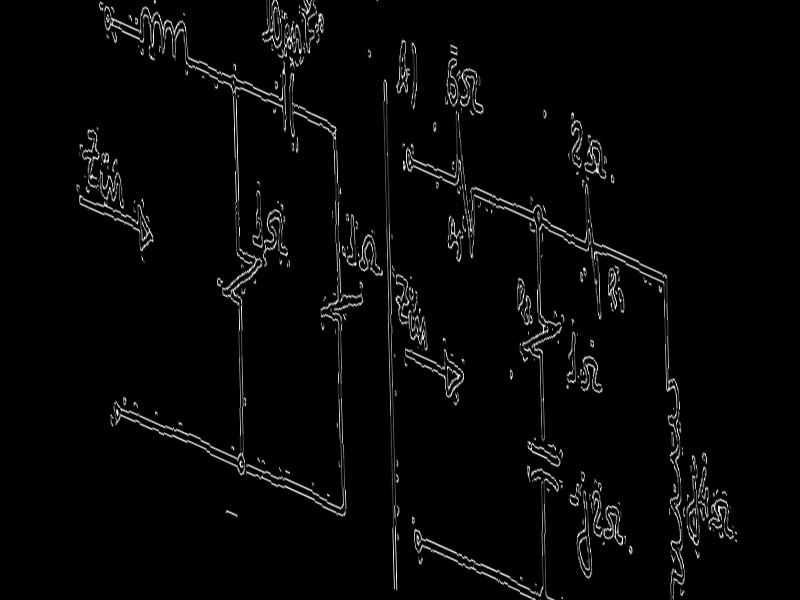-: (568, 486, 581, 514), (449, 42, 459, 59)
0: (270, 0, 283, 52)
1: (564, 315, 577, 394), (250, 178, 263, 252), (345, 206, 357, 274), (259, 0, 274, 50)
2: (570, 114, 585, 172), (591, 486, 604, 542), (522, 289, 534, 333)
3: (617, 286, 626, 317)
4: (696, 457, 711, 523)
5: (455, 226, 464, 266)
6: (445, 50, 459, 110)
F: (302, 0, 319, 62)
H: (176, 0, 192, 3)
m: (282, 16, 302, 57)
